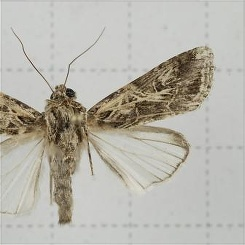Spodoptera litura: (0, 26, 217, 228)
